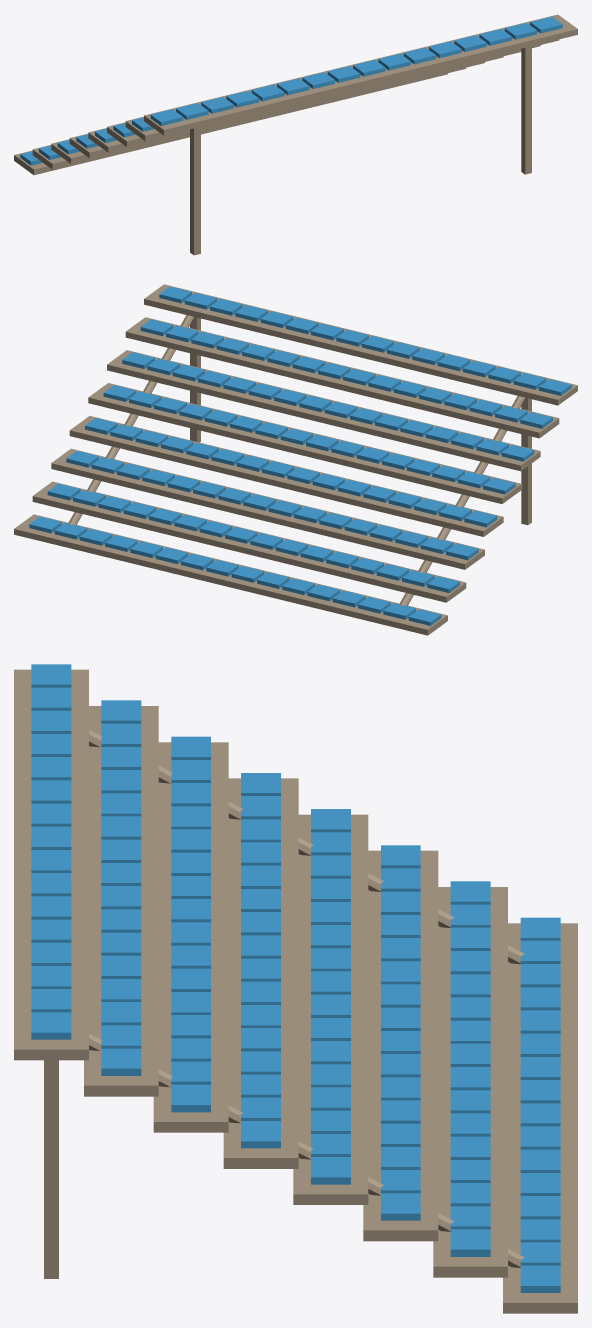
File: grandstand.glb
3 renders of one model, top to bottom at view 1: azimuth 30°, elevation 25°; view 2: azimuth 150°, elevation 25°; view 3: azimuth 270°, elevation 25°, orthographic. The views are drawn at different scales.
Visible parts, largest first — view 1: main-grandstand-tier; view 2: main-grandstand-tier; view 3: main-grandstand-tier.
Part boxes in pixels (bbox=[...]): main-grandstand-tier: bbox=[14, 14, 577, 255]; main-grandstand-tier: bbox=[14, 284, 577, 635]; main-grandstand-tier: bbox=[14, 664, 577, 1313].
Size of the model in its own units: 9 by 3.05 by 5.65.
